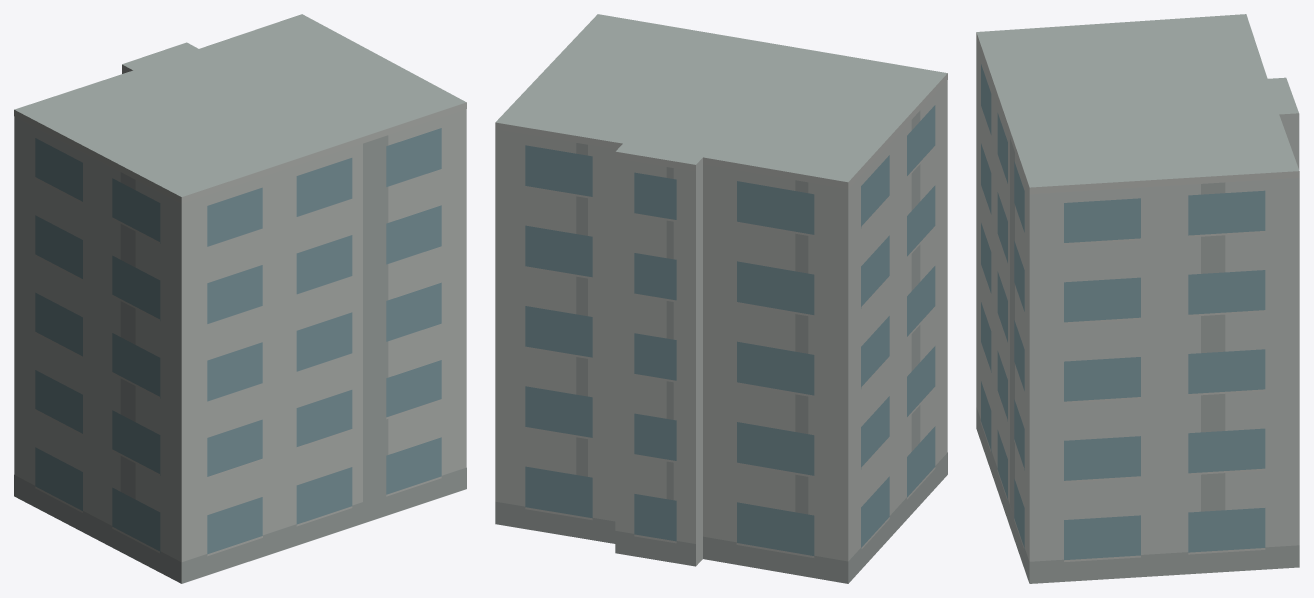
The model's file is survey-upis-32705919.glb.
The picture shows the model from 3 angles, left to right: view 1: azimuth 30°, elevation 25°; view 2: azimuth 150°, elevation 25°; view 3: azimuth 270°, elevation 25°; orthographic projection. The views are drawn at different scales.
Visible parts, largest first — view 1: survey-upis-32705919.tmp; view 2: survey-upis-32705919.tmp; view 3: survey-upis-32705919.tmp.
Boxes of the visible parts, x1=… form: survey-upis-32705919.tmp: x1=14, y1=14, x2=466, y2=583; survey-upis-32705919.tmp: x1=495, y1=14, x2=947, y2=583; survey-upis-32705919.tmp: x1=976, y1=14, x2=1299, y2=583.
Size of the model in its own units: 13.25 by 14.1 by 10.43.
